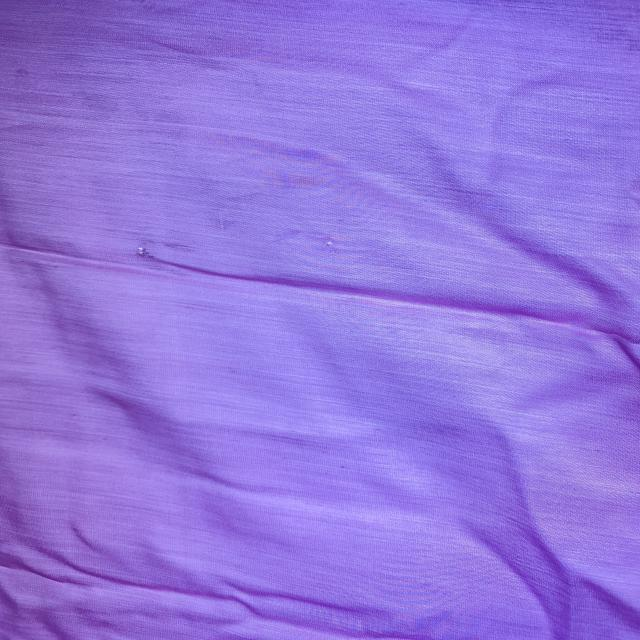broken_yarn: (7, 237, 635, 343)
